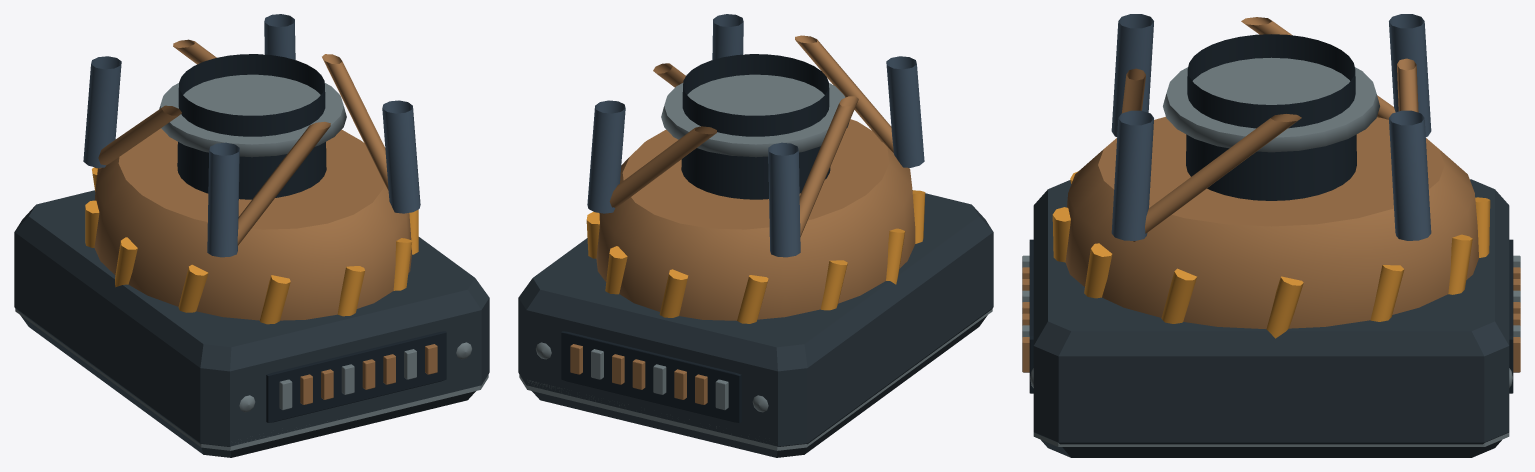
The model's file is wreck_ignis_0.glb.
3 renders of one model, left to right at view 1: azimuth 30°, elevation 25°; view 2: azimuth 150°, elevation 25°; view 3: azimuth 270°, elevation 25°, orthographic. The views are drawn at different scales.
Visible parts, largest first — view 1: wreck_ignis_0; view 2: wreck_ignis_0; view 3: wreck_ignis_0.
Part boxes in pixels (x1,y1,x2,y2): wreck_ignis_0: [14, 14, 489, 457]; wreck_ignis_0: [518, 14, 993, 457]; wreck_ignis_0: [1022, 14, 1520, 457].
Bounding box in the file's own units: 3.2 × 2.89 × 4.17.
